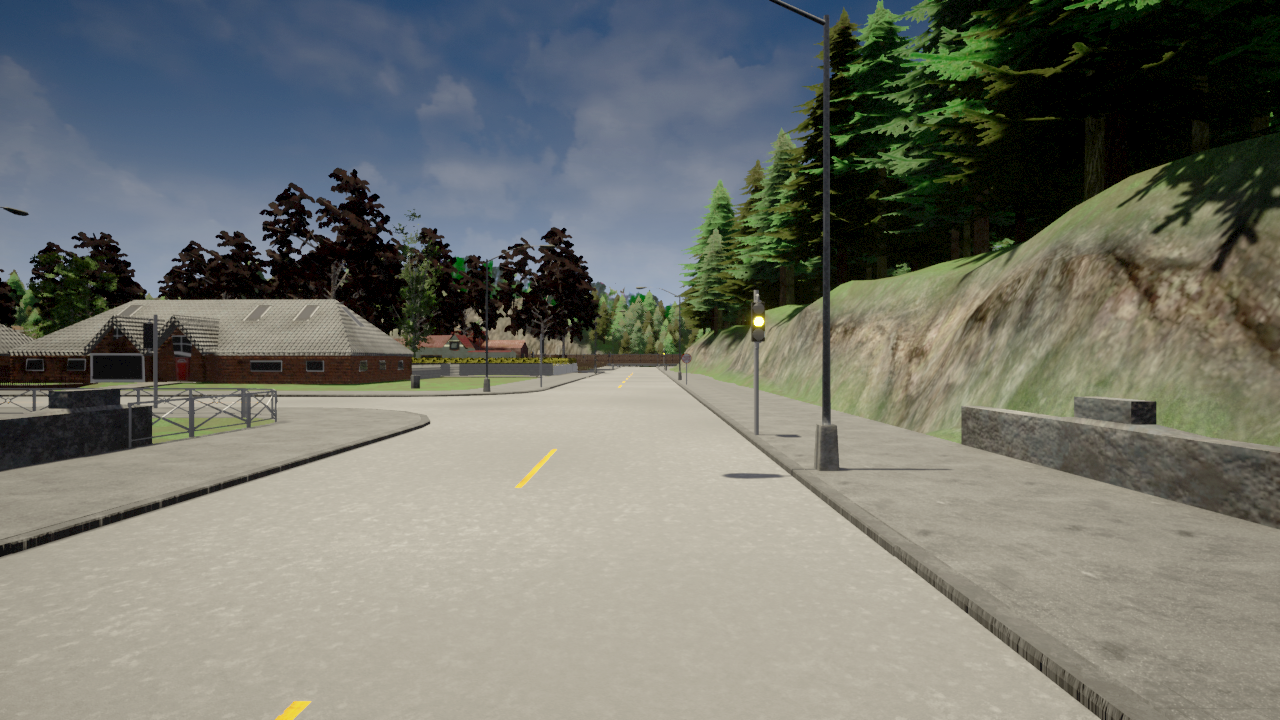yellow: (750, 300, 768, 344)
